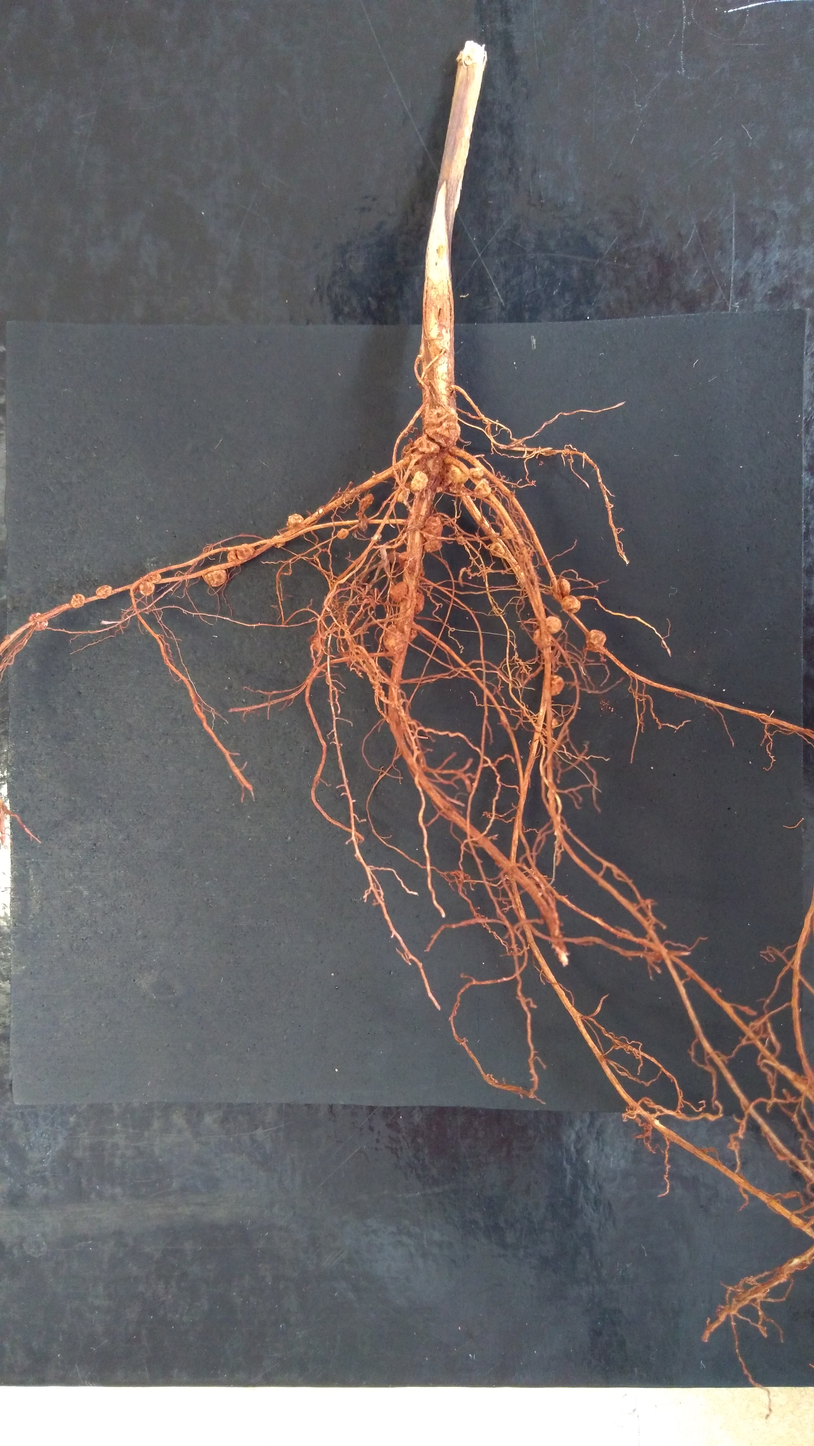nodule: (422, 406, 462, 448), (382, 624, 405, 654), (421, 523, 443, 553), (398, 551, 420, 578), (586, 629, 607, 653), (414, 437, 440, 455), (448, 464, 469, 486), (202, 570, 227, 588), (409, 470, 429, 492), (389, 581, 408, 603), (532, 628, 552, 648), (27, 612, 48, 631), (552, 578, 571, 599), (561, 595, 581, 614), (473, 478, 492, 497), (236, 543, 255, 561), (550, 675, 565, 696), (358, 494, 374, 513), (546, 615, 562, 634), (95, 584, 113, 600), (309, 634, 324, 653), (137, 581, 155, 596), (414, 592, 426, 614), (489, 542, 505, 557), (287, 513, 304, 526), (271, 534, 286, 548), (71, 593, 85, 608), (424, 514, 440, 527), (469, 466, 485, 478), (226, 549, 238, 564), (146, 572, 161, 583), (502, 525, 513, 540), (397, 489, 409, 502), (337, 528, 349, 540), (409, 628, 418, 642), (359, 520, 368, 531), (456, 535, 464, 544), (435, 486, 443, 494), (551, 719, 557, 728), (3, 634, 10, 640)
